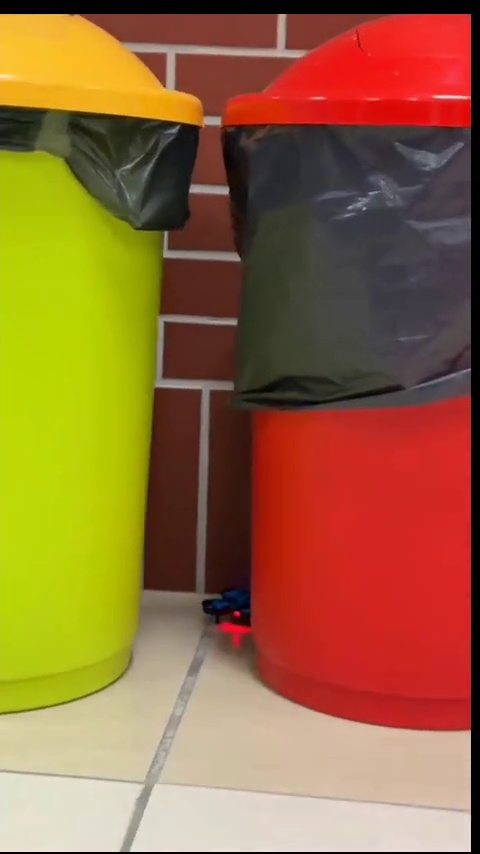drone: (198, 585, 245, 631)
